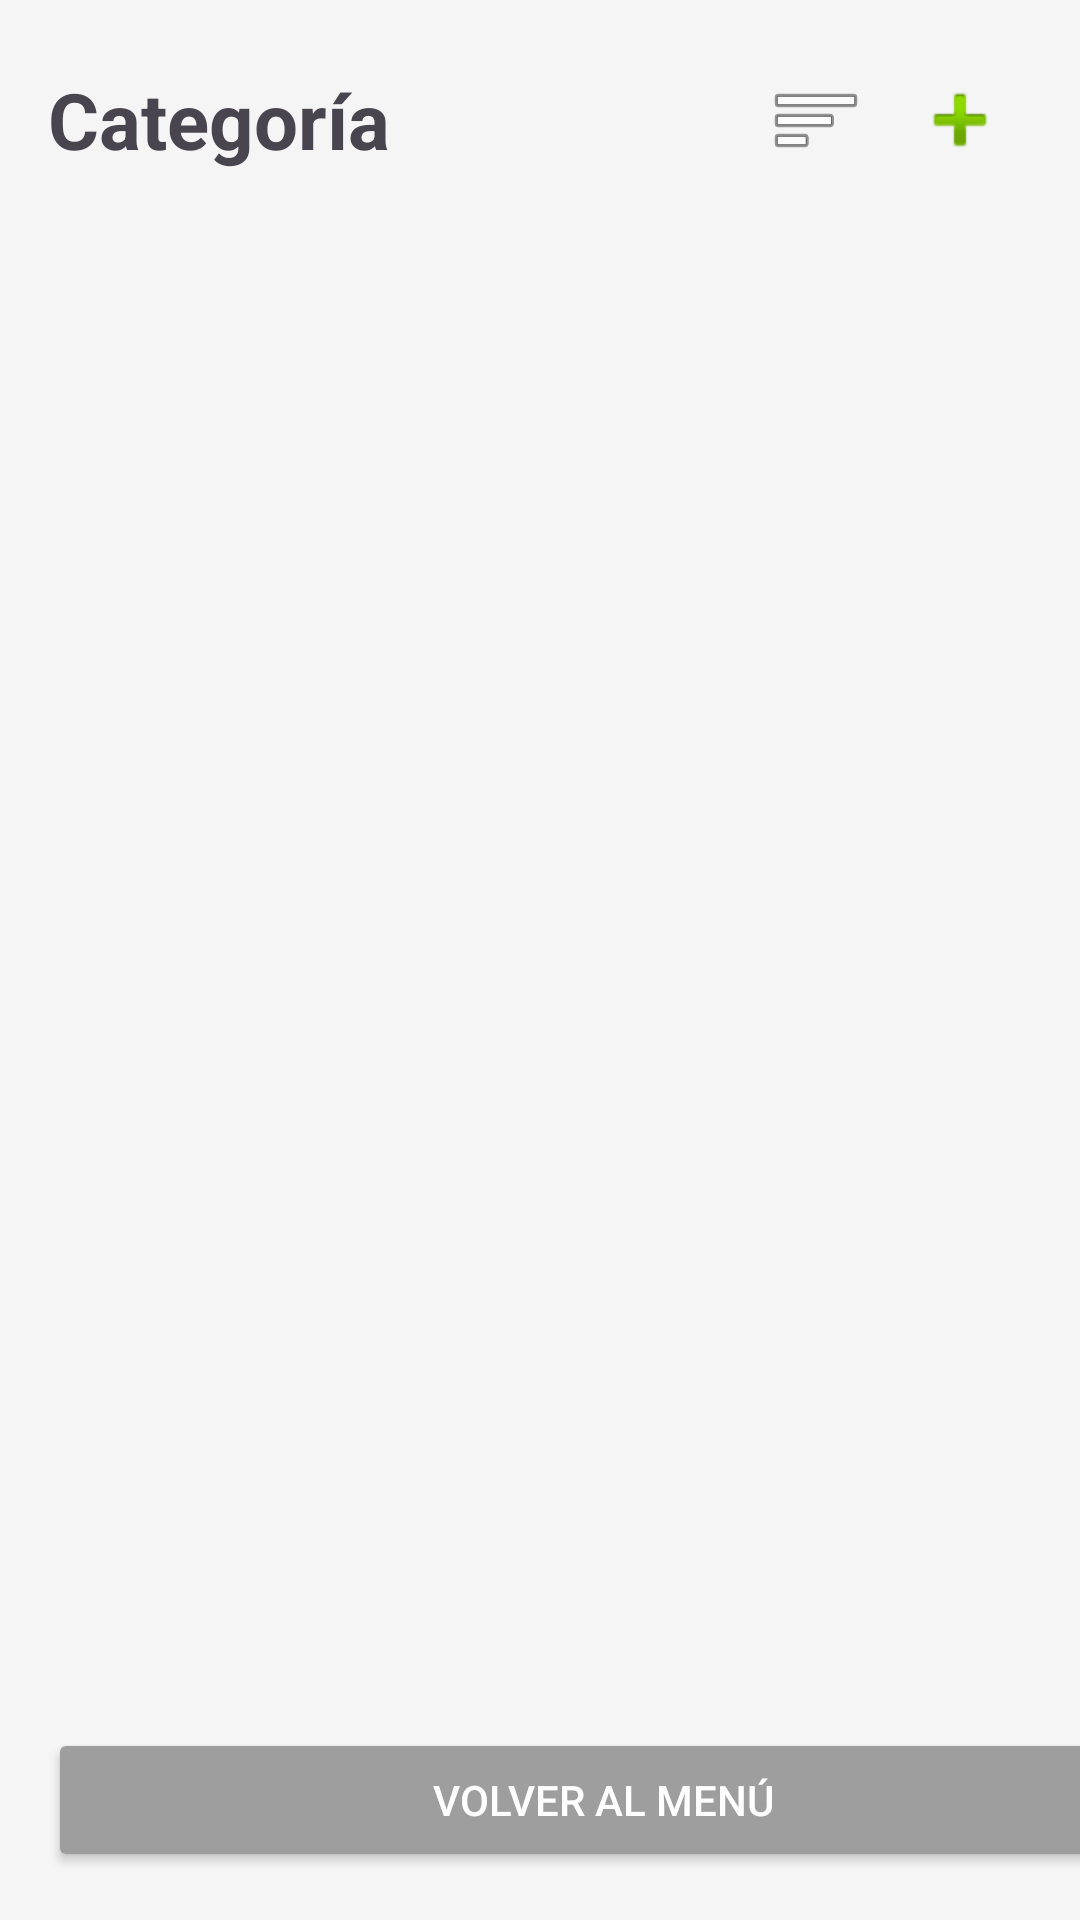

Named icons in this screenshot (1080 x 1920) and their centers, [x,y]:
add: [960,120]
sort by size: [816,120]
